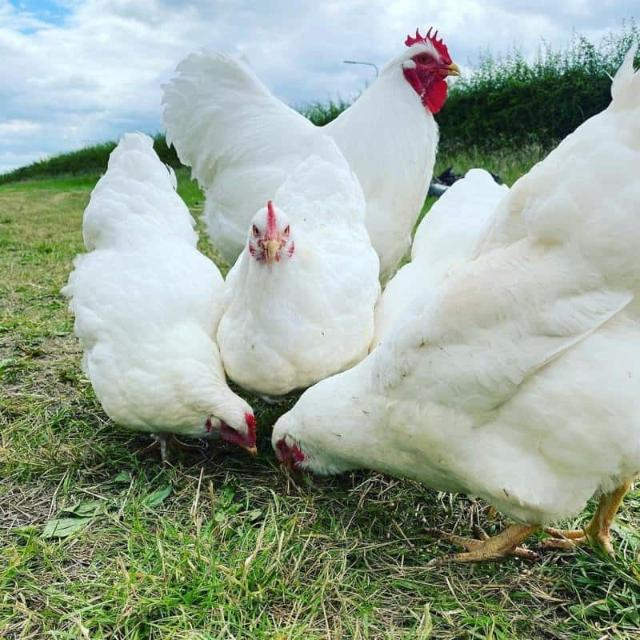Chicken: (269, 54, 640, 568), (156, 24, 463, 279), (64, 131, 260, 462), (215, 135, 383, 398)
